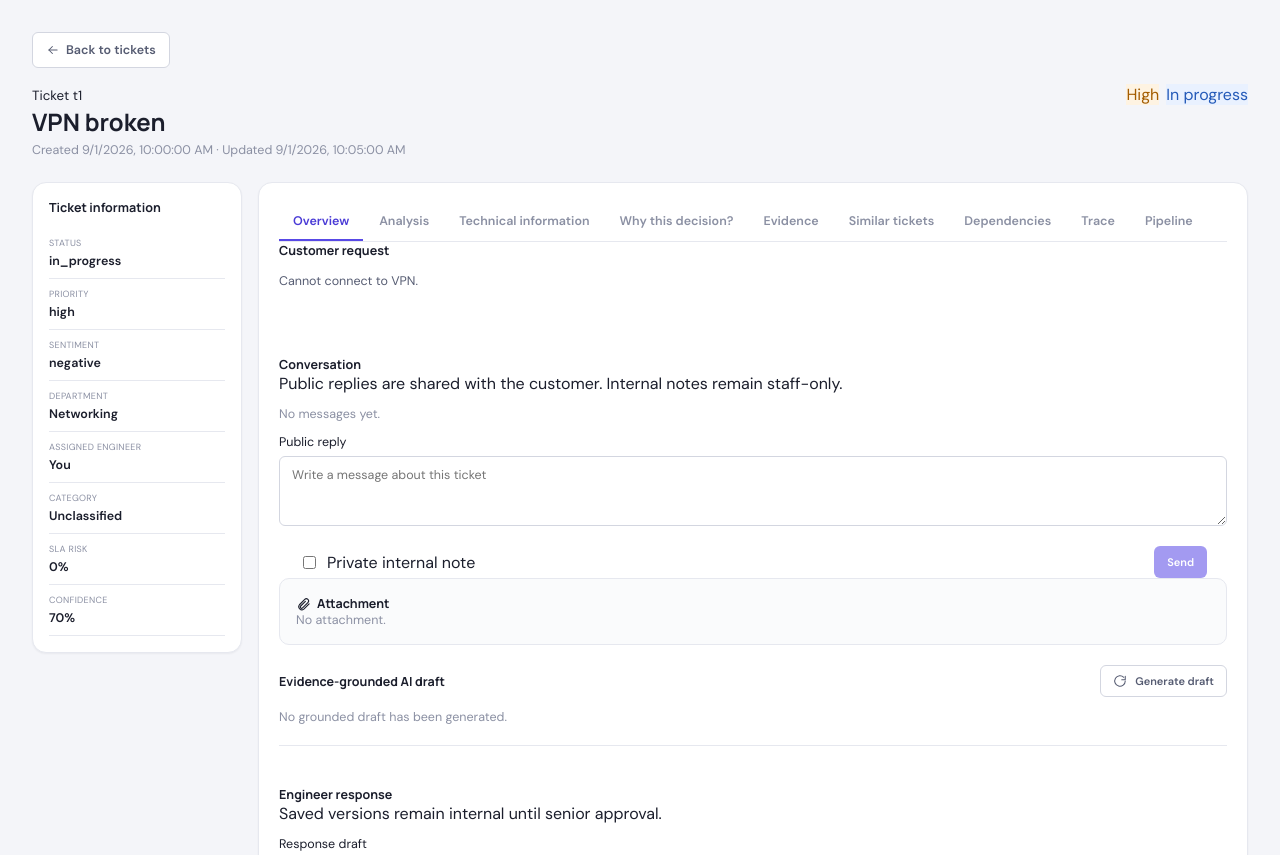
Scenario: engineer response workflow › renders persisted Release B entities, explanation, and pipeline stages
This screenshot has width=1280, height=855.
Click the tab "Technical information".
click(524, 222)  # box [445, 203, 604, 241]
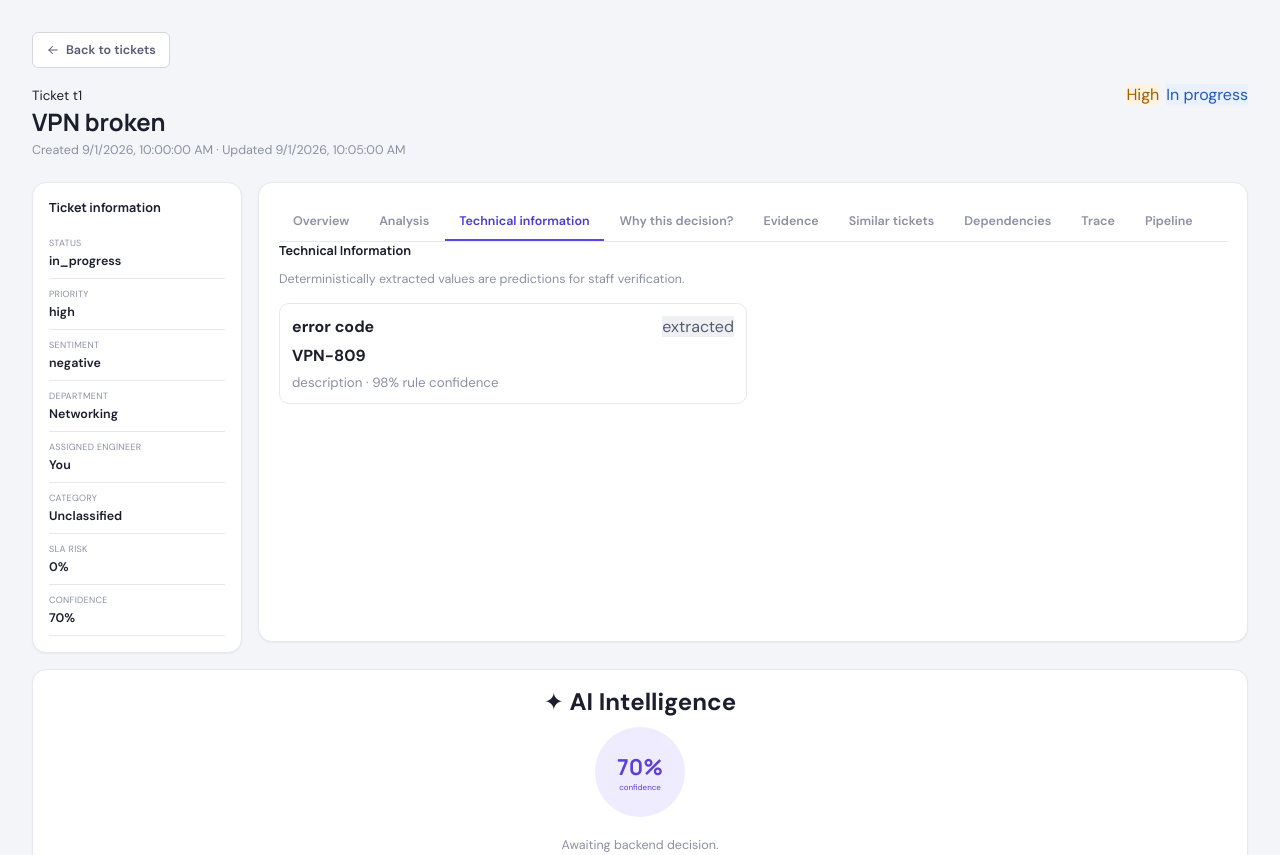
Expected: the text "VPN-809" is shown, [292, 345, 366, 366]
Click the tab "Why this decision?".
click(676, 222)  # box [606, 203, 747, 241]
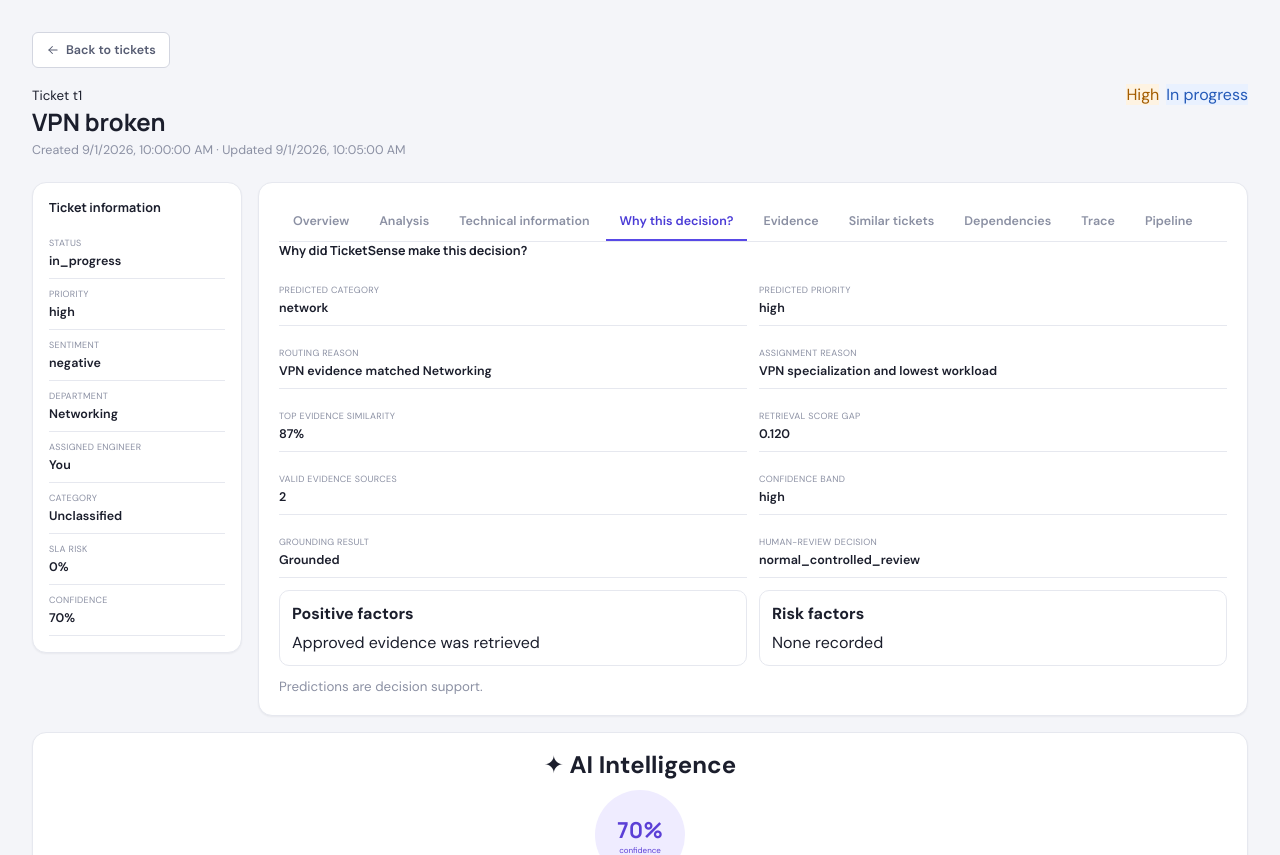
Expected: the text "VPN specialization and lowest workload" is shown, [759, 363, 997, 379]
Click the tab "Pipeline".
click(1169, 222)  # box [1131, 203, 1207, 241]
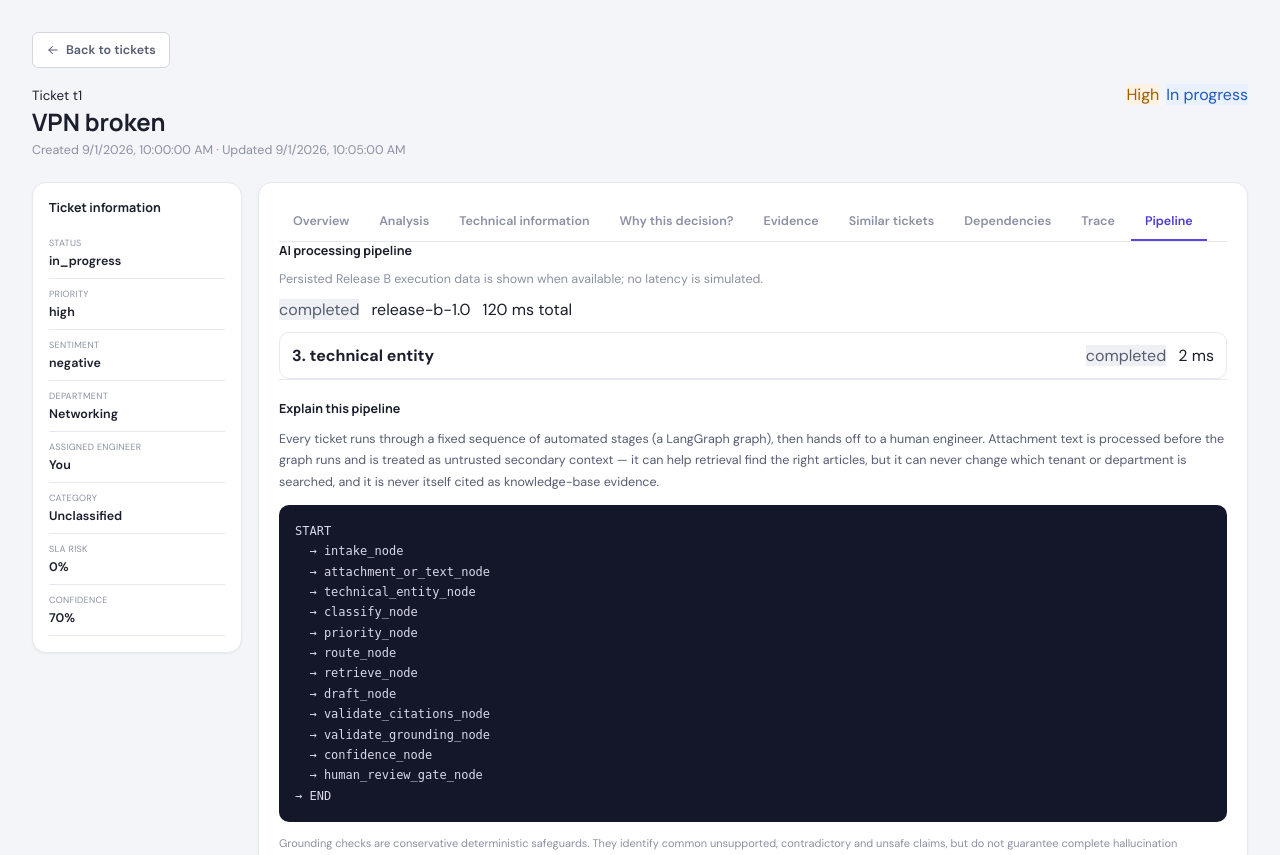
Expected: the text "release-b-1.0" is shown, [372, 299, 470, 320]
Expected: the text "3. technical entity" is shown, [292, 345, 434, 366]
